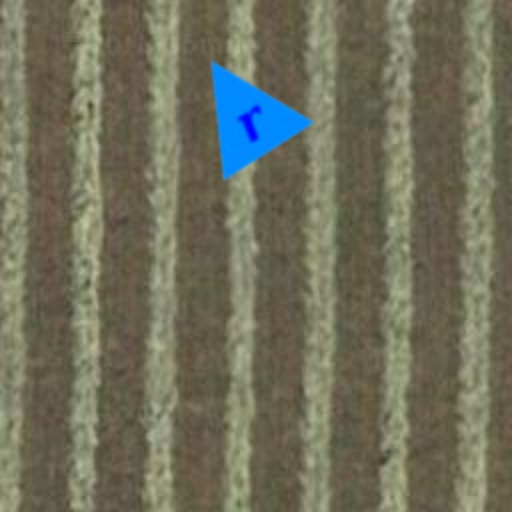triangle: (164, 30, 316, 182)
